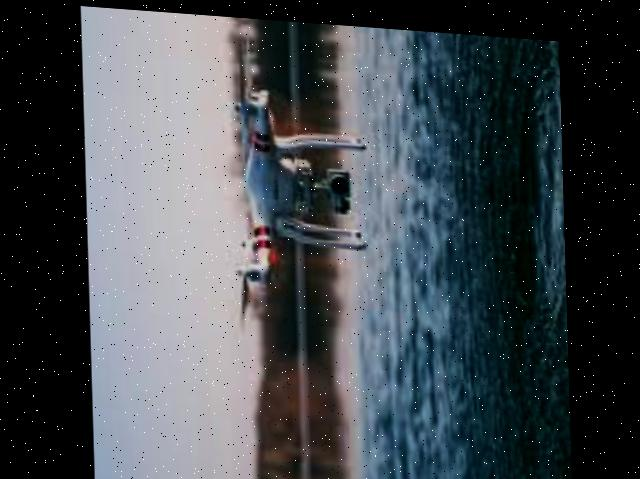drone: (205, 30, 386, 349)
